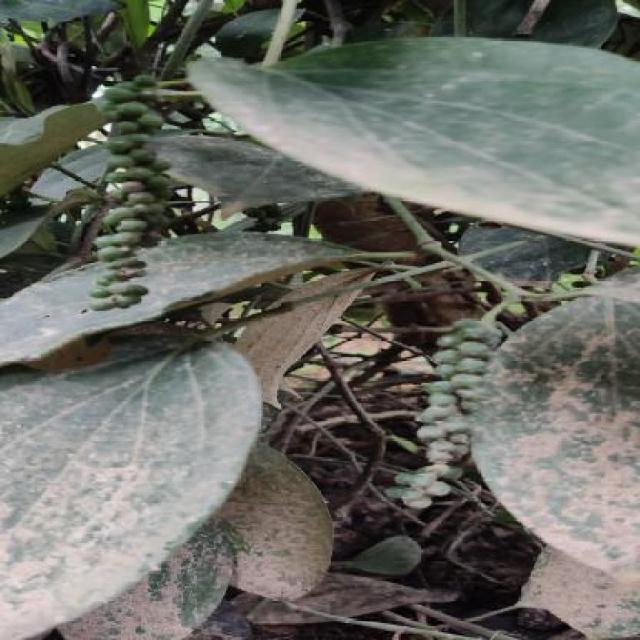UNRIPE: (395, 319, 500, 508), (92, 78, 169, 311)
